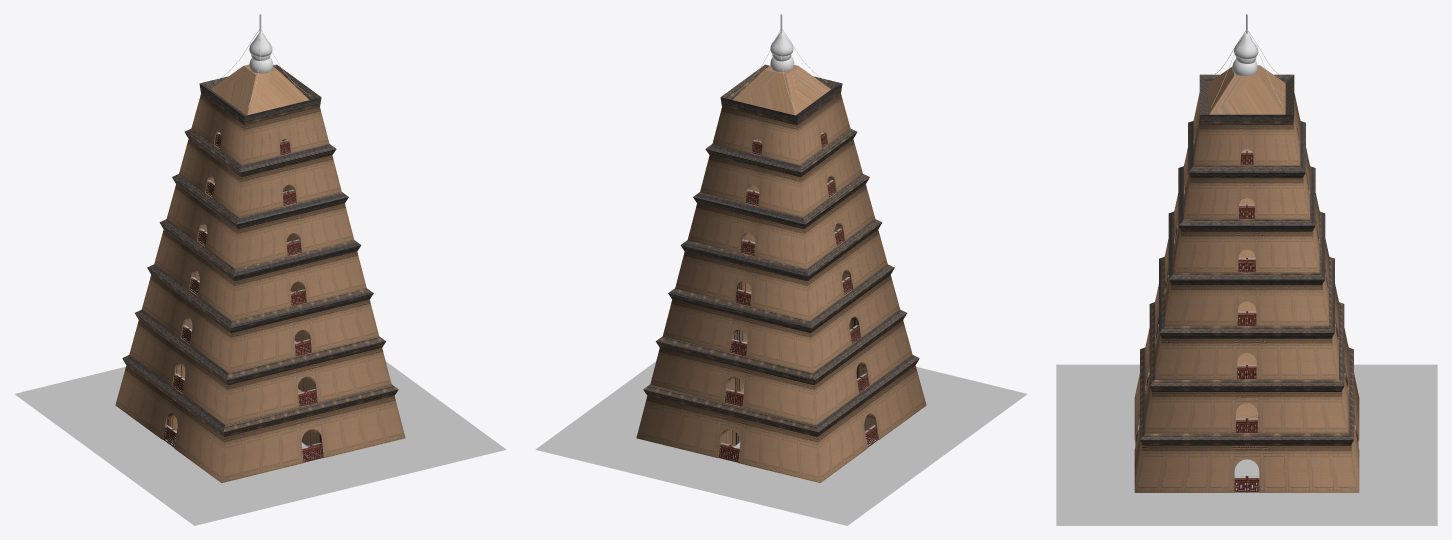
The model's file is 大雁塔.FBX.
The picture shows the model from 3 angles, left to right: view 1: azimuth 30°, elevation 25°; view 2: azimuth 150°, elevation 25°; view 3: azimuth 270°, elevation 25°; orthographic projection. The views are drawn at different scales.
Visible parts, largest first — view 1: Cone01, Plane01, 对象10, 图形01; view 2: Cone01, Plane01, 对象10, 图形01; view 3: Cone01, Plane01, 对象10, 图形01.
Part boxes in pixels (x1,y1,x2,y2): Cone01: [115, 64, 405, 482]; Plane01: [14, 361, 506, 525]; 对象10: [163, 132, 323, 462]; 图形01: [214, 14, 306, 107]; Cone01: [636, 64, 926, 482]; Plane01: [535, 361, 1027, 525]; 对象10: [718, 132, 878, 462]; 图形01: [735, 14, 827, 107]; Cone01: [1134, 65, 1359, 492]; Plane01: [1056, 364, 1437, 525]; 对象10: [1135, 133, 1358, 492]; 图形01: [1211, 14, 1282, 107].
Size of the model in its own units: 6 by 7.49 by 6.
